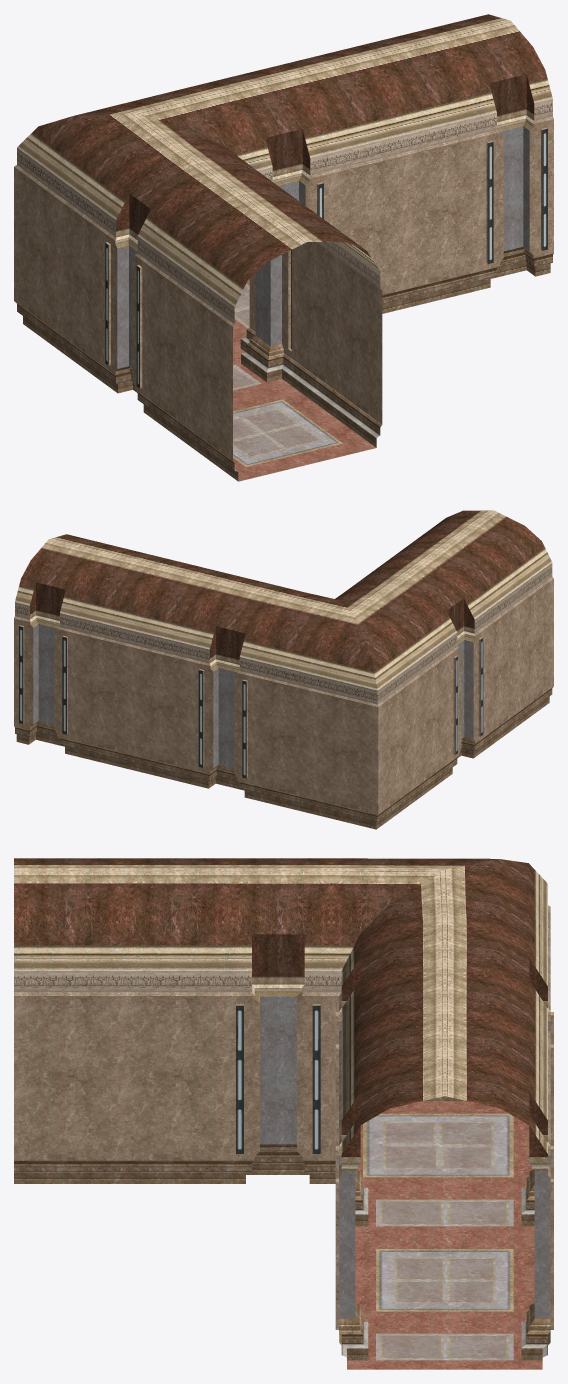
The model's file is thm_nboo_thed_theed_palace_r14_mesh_r14.fbx.
3 renders of one model, top to bottom at view 1: azimuth 30°, elevation 25°; view 2: azimuth 150°, elevation 25°; view 3: azimuth 270°, elevation 25°, orthographic. The views are drawn at different scales.
Visible parts, largest first — view 1: mesh_node; view 2: mesh_node; view 3: mesh_node.
Boxes of the visible parts, bbox=[...] form: mesh_node: bbox=[14, 14, 553, 481]; mesh_node: bbox=[14, 510, 553, 829]; mesh_node: bbox=[14, 858, 553, 1369].
Bounding box in the file's own units: 24.43 × 11.41 × 20.43.
